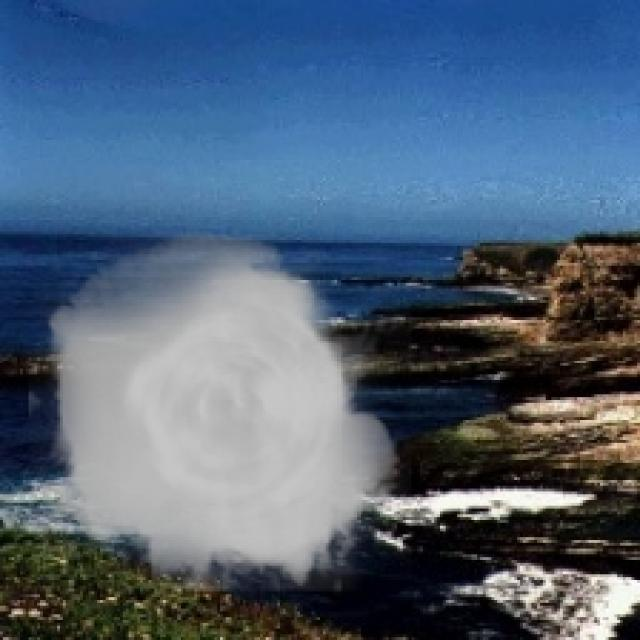smoke: (29, 232, 412, 592)
